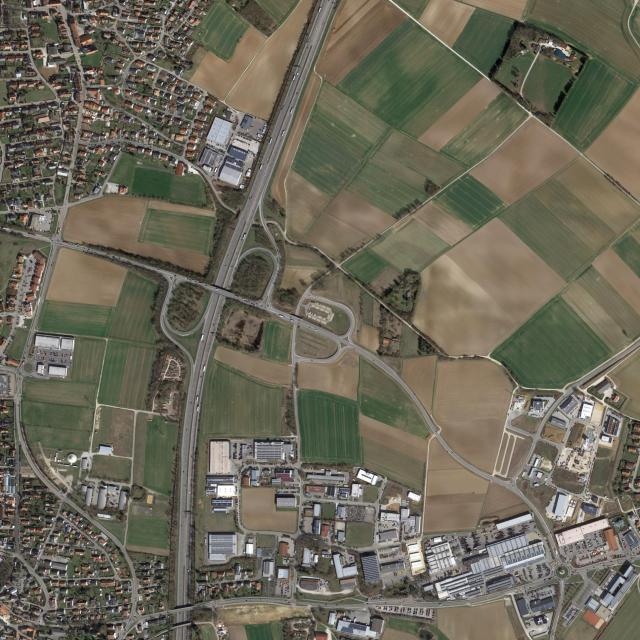large-vehicle: (290, 108, 294, 114), (214, 168, 218, 173), (258, 133, 263, 137), (279, 315, 285, 318), (203, 365, 206, 371), (196, 396, 199, 402), (201, 335, 204, 341), (270, 138, 273, 144), (282, 131, 285, 137), (293, 75, 296, 81), (290, 319, 295, 322), (199, 282, 204, 285), (243, 234, 246, 239), (260, 165, 263, 170), (319, 8, 322, 13), (205, 538, 207, 545), (197, 405, 199, 411), (63, 241, 68, 243), (73, 466, 78, 468), (64, 465, 69, 467), (55, 457, 57, 462), (439, 604, 443, 606), (264, 125, 268, 127), (265, 123, 268, 125), (190, 476, 192, 478), (265, 127, 267, 129), (264, 128, 266, 130), (264, 129, 266, 131), (258, 135, 260, 137), (307, 501, 310, 502), (262, 132, 265, 133)
small-vehicle: (107, 253, 110, 256), (192, 280, 195, 282), (189, 279, 192, 281), (242, 298, 245, 300), (260, 305, 263, 307), (87, 250, 89, 252), (69, 243, 71, 245), (187, 278, 189, 280), (251, 303, 253, 305), (8, 135, 10, 137), (297, 73, 299, 75), (246, 301, 248, 303), (243, 527, 245, 529), (241, 525, 243, 527), (239, 513, 241, 515), (218, 313, 220, 315), (285, 592, 287, 594), (248, 300, 250, 302), (256, 303, 258, 305), (56, 625, 59, 626), (188, 569, 189, 572), (216, 289, 219, 290), (285, 589, 287, 590), (84, 248, 86, 249), (88, 249, 90, 250), (281, 594, 283, 595), (281, 588, 283, 589), (279, 587, 281, 588), (276, 583, 278, 584), (225, 266, 226, 268), (228, 255, 229, 257), (77, 246, 79, 247), (72, 244, 74, 245), (190, 491, 191, 493), (75, 245, 77, 246), (52, 219, 54, 220), (248, 302, 250, 303), (244, 300, 246, 301), (239, 511, 240, 513), (250, 600, 252, 601), (288, 602, 290, 603), (241, 523, 242, 525), (239, 515, 240, 517), (239, 507, 240, 509), (239, 505, 240, 507), (239, 503, 240, 505), (239, 496, 240, 498), (239, 492, 240, 494), (281, 589, 283, 590), (281, 590, 283, 591), (240, 520, 241, 521), (254, 304, 255, 305), (239, 501, 240, 502), (239, 490, 240, 491), (246, 600, 247, 601), (288, 591, 289, 592), (265, 307, 266, 308), (240, 517, 240, 519), (281, 593, 283, 593), (281, 592, 283, 592)
storage-tank: (67, 454, 77, 463)
